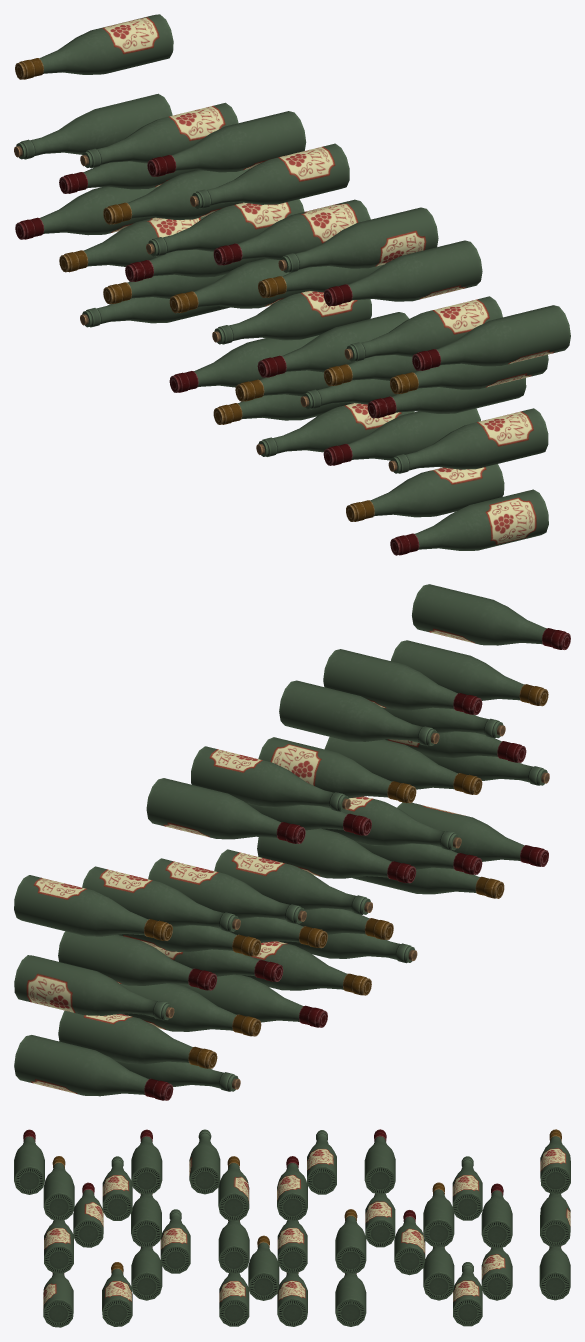
File: LOD0_bottles_wineCabinet_1.fbx
3 renders of one model, top to bottom at view 1: azimuth 30°, elevation 25°; view 2: azimuth 150°, elevation 25°; view 3: azimuth 270°, elevation 25°, orthographic. The views are drawn at different scales.
Parts seen in each view (by area): view 1: LOD0_bottles_wineCabinet_1; view 2: LOD0_bottles_wineCabinet_1; view 3: LOD0_bottles_wineCabinet_1.
Part boxes in pixels (x1=…): LOD0_bottles_wineCabinet_1: x1=14, y1=14, x2=570, y2=555; LOD0_bottles_wineCabinet_1: x1=14, y1=584, x2=570, y2=1100; LOD0_bottles_wineCabinet_1: x1=14, y1=1129, x2=570, y2=1327.
Size of the model in its own units: 0.3337 by 0.533 by 1.67.
